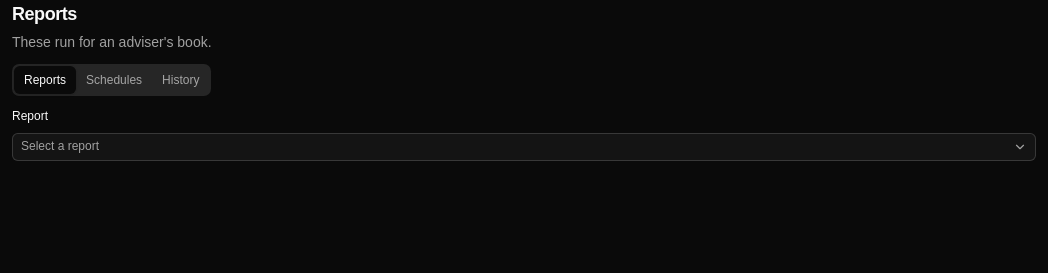
Test: ReportsPage › disables generate when the selected report has no parameter form
Click the dropdown labelled "report".
click(60, 146)  # box [12,132,1036,160]
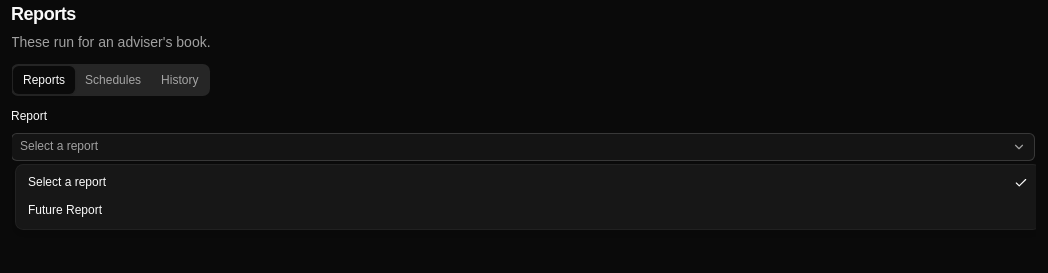
Click the option "Future Report".
click(65, 210)  # box [28,203,102,217]
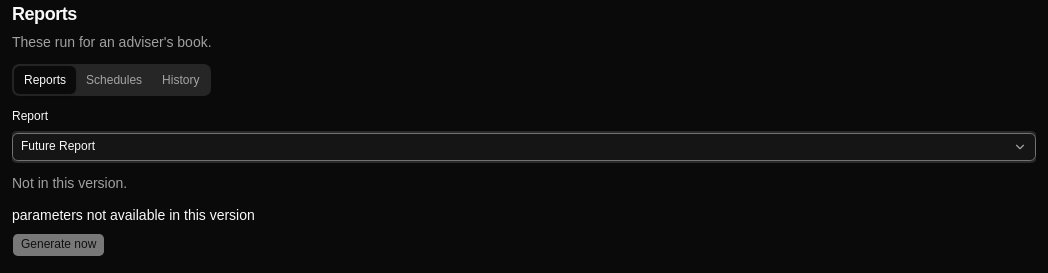
Result: the text "parameters not available in this version" is shown at [12,204,255,224]
Result: the button "Generate now" is disabled at [12,232,105,256]
